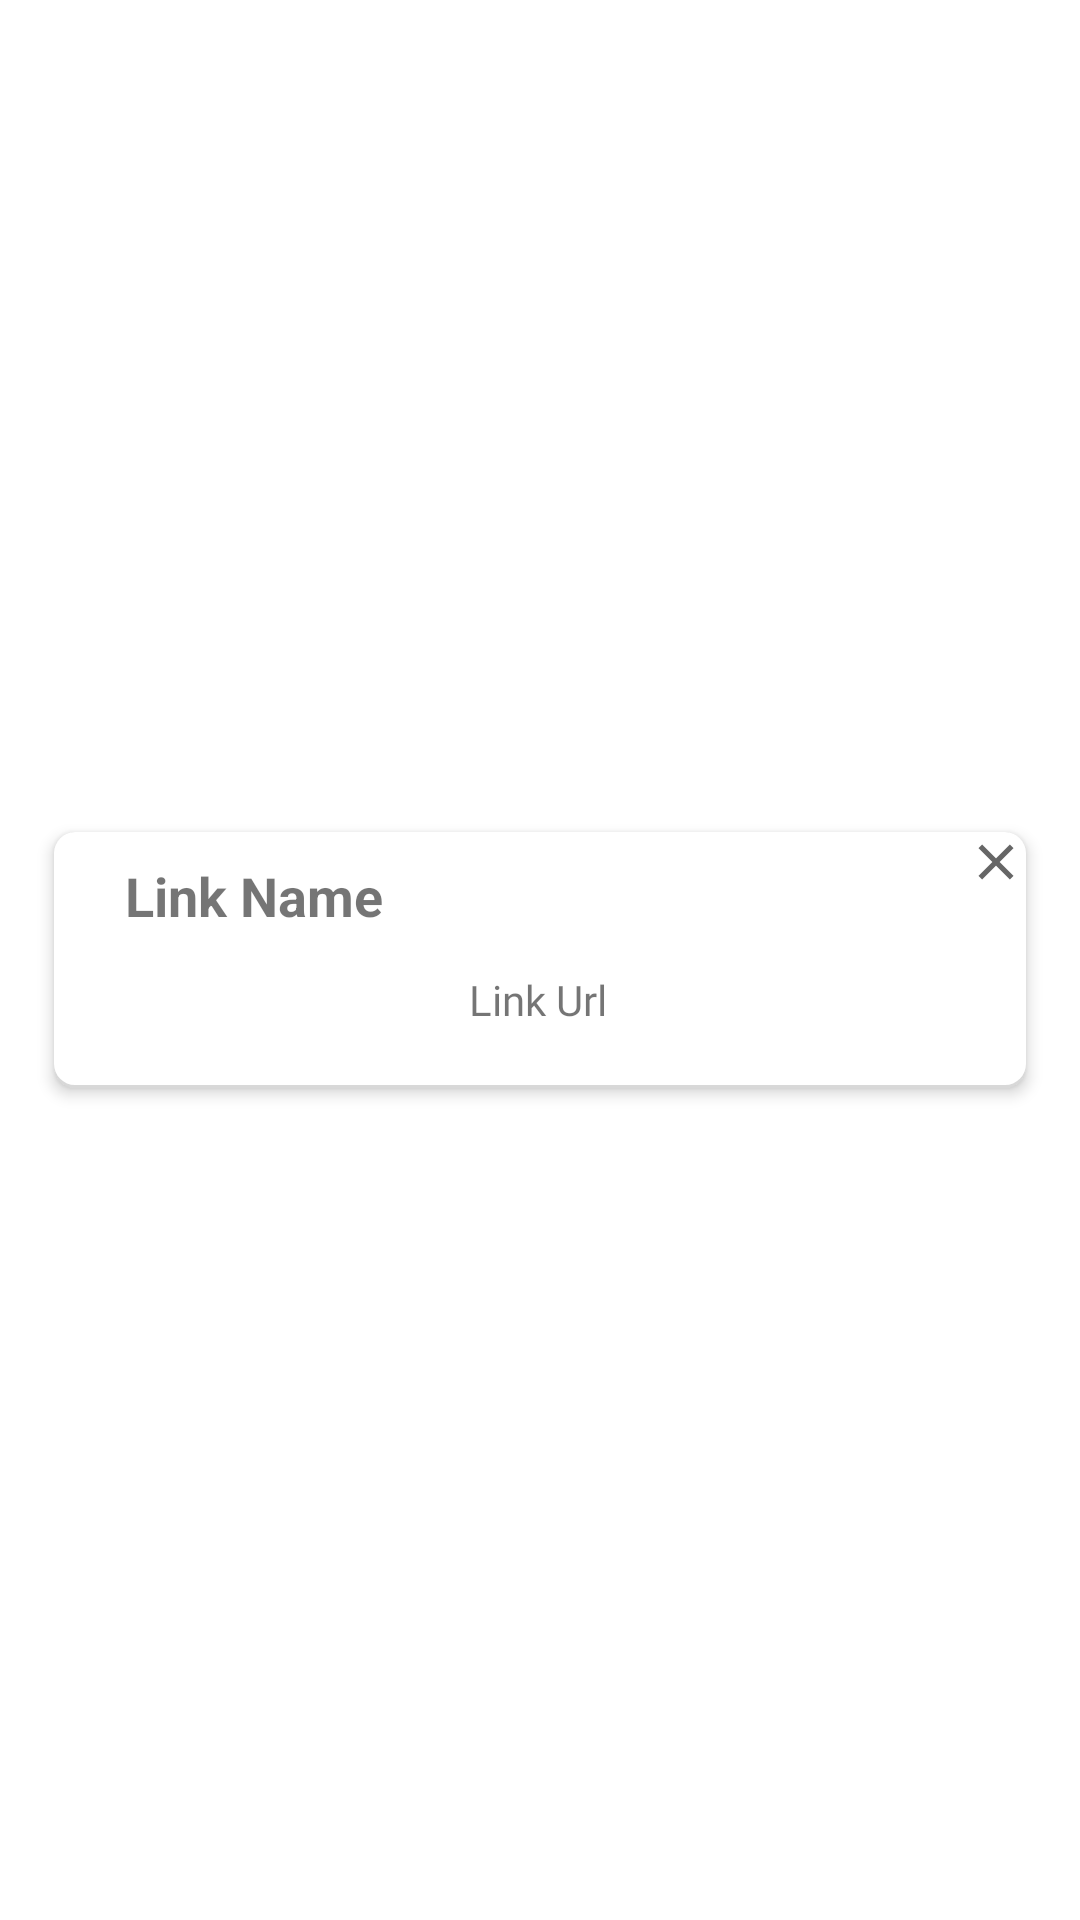

Icon click points for this 1080x1920 phone screenshot, format point (x, y):
close: point (996, 862)
